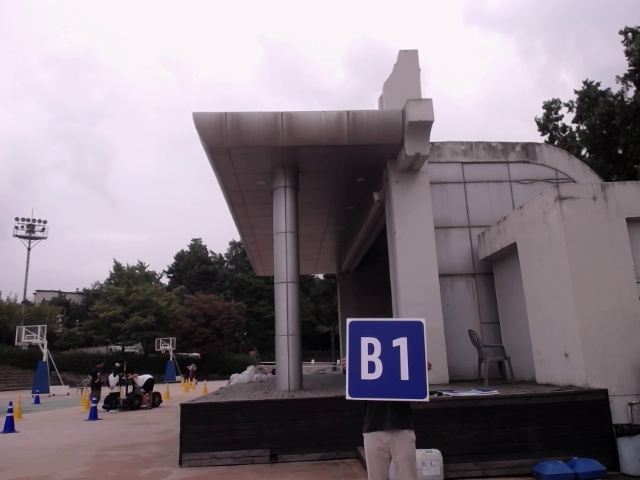delivery_b1: (347, 318, 429, 401)
